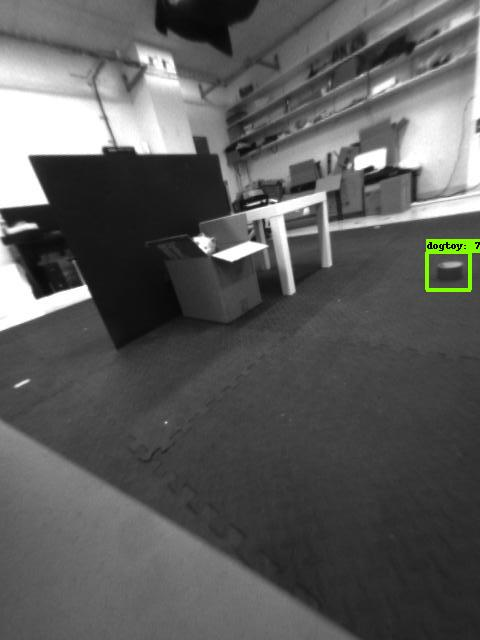dogtoy: (420, 248, 471, 298)
